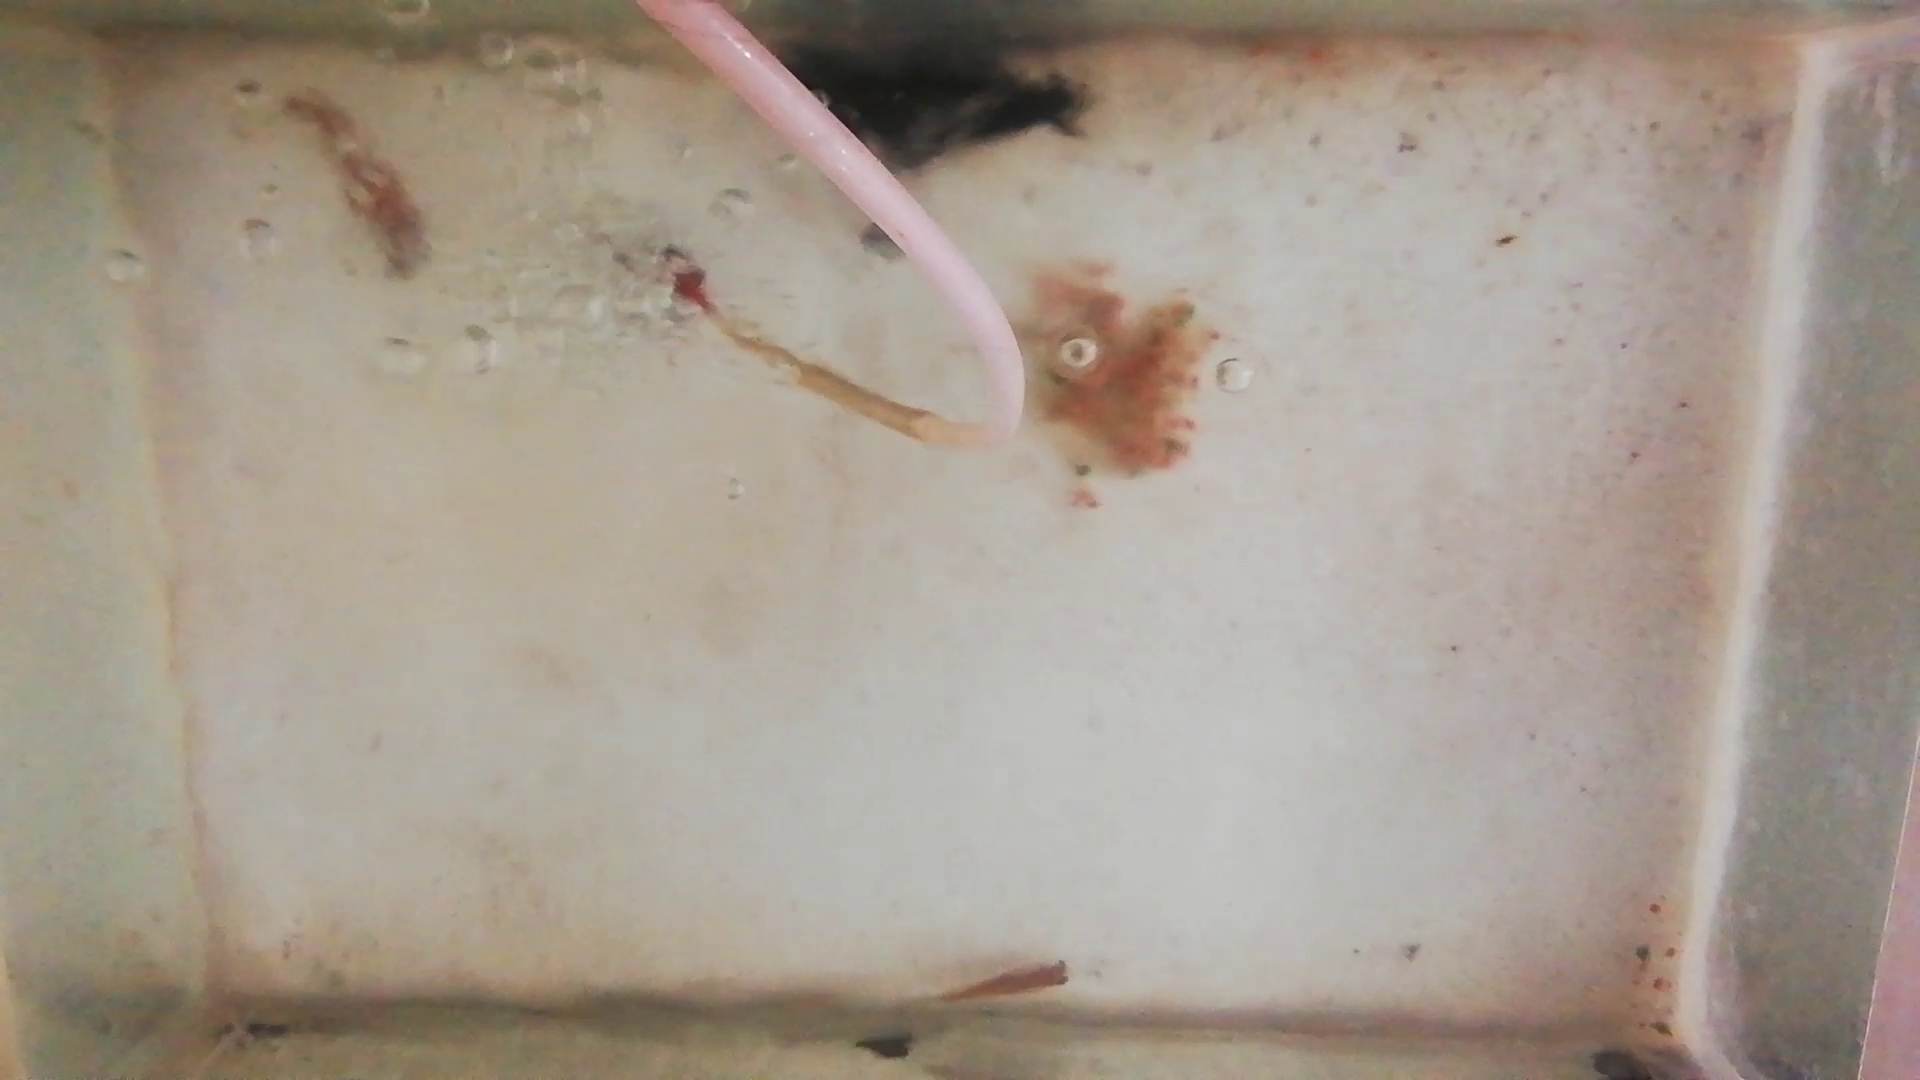fish: (280, 88, 430, 287), (932, 963, 1077, 1007)
